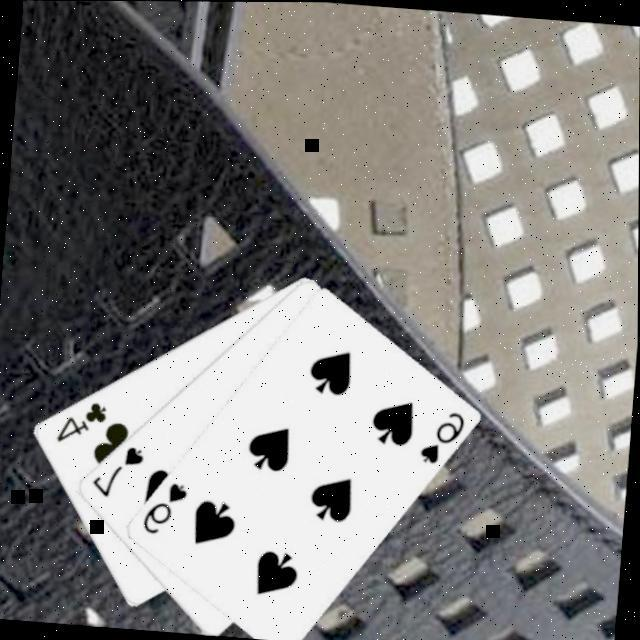4C: (54, 396, 112, 451)
6S: (415, 407, 469, 470), (139, 478, 191, 542)
7S: (88, 442, 148, 504)
